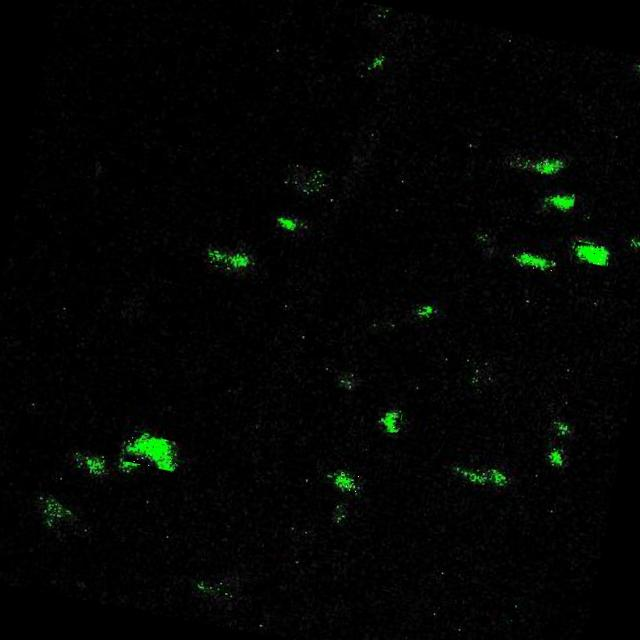Cell: (124, 432, 180, 472), (512, 250, 557, 274), (572, 241, 610, 266), (544, 188, 576, 215), (332, 470, 360, 495), (535, 157, 563, 177), (276, 212, 301, 231), (382, 412, 402, 433)
